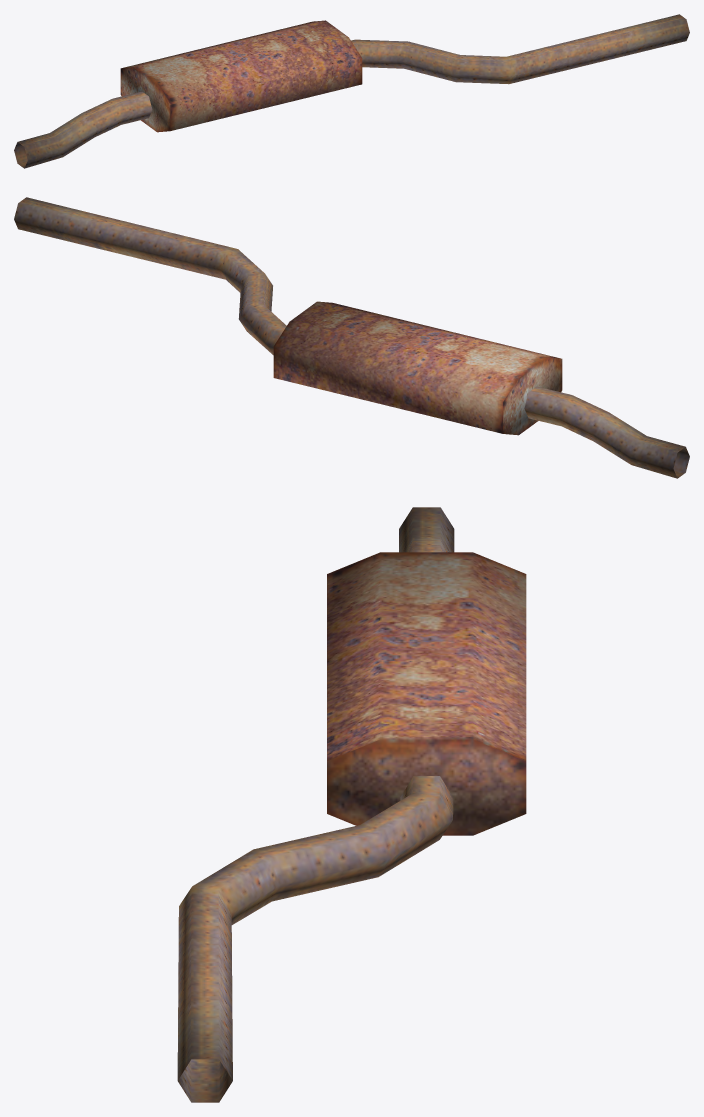
3 views of the same model, one above another, from view 1: azimuth 30°, elevation 25°; view 2: azimuth 150°, elevation 25°; view 3: azimuth 270°, elevation 25° (orthographic). The views are drawn at different scales.
Parts seen in each view (by area): view 1: Part01; view 2: Part01; view 3: Part01.
Part boxes in pixels (box(x1,y1,x2,y2)): Part01: box(14, 14, 689, 168); Part01: box(14, 197, 689, 478); Part01: box(177, 507, 526, 1102).
Size of the model in its own units: 12.66 by 1.2 by 3.15.
